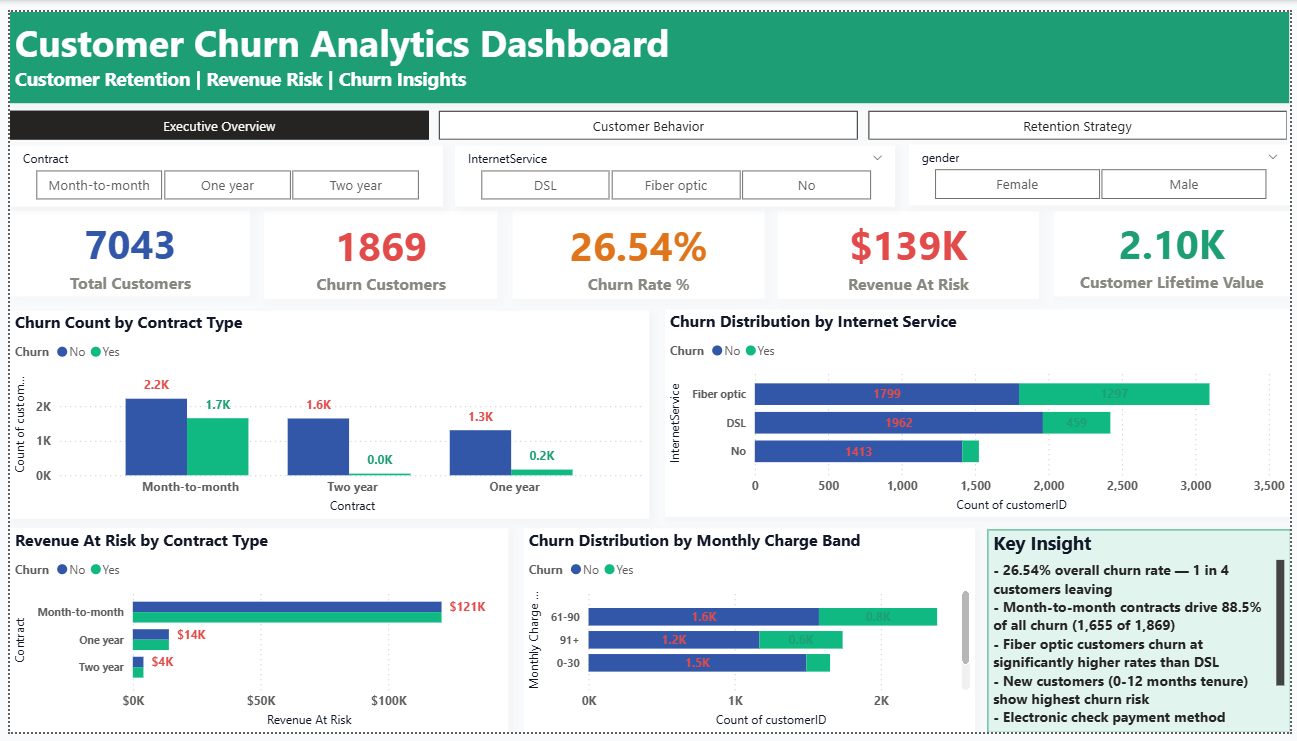

The dashboard page shown, as its layout file describes it:
{"tool":"powerbi","page":{"name":"Executive Overview","canvas":[1280,720],"ordinal":0},"visuals":[{"type":"card","fields":{"Values":["churn_raw xlsx.Total Customers"]},"box":[0,198.3,240.1,85.8],"z":0},{"type":"card","fields":{"Values":["churn_raw xlsx.Churn Customers"]},"box":[254.2,198.3,233.9,88.3],"z":1000},{"type":"card","fields":{"Values":["churn_raw xlsx.Churn Rate %"]},"box":[502.2,198.3,251.7,88.3],"z":2000},{"type":"card","fields":{"Values":["churn_raw xlsx.Revenue At Risk"]},"box":[768,198.3,261.2,88.3],"z":3000},{"type":"card","fields":{"Values":["churn_raw xlsx.CLV"]},"box":[1043.3,198.3,236.7,85.8],"z":4000},{"type":"clusteredColumnChart","title":"Churn Count by Contract Type","fields":{"Category":["churn_raw xlsx.Contract"],"Series":["churn_raw xlsx.Churn"],"Y":["CountNonNull(churn_raw xlsx.customerID)"]},"box":[0,298.6,639.4,207.7],"z":5000},{"type":"barChart","title":"Churn Distribution by Internet Service","fields":{"Category":["churn_raw xlsx.InternetService"],"Series":["churn_raw xlsx.Churn"],"Y":["CountNonNull(churn_raw xlsx.customerID)"]},"box":[655,297.5,625,207.5],"z":6000},{"type":"clusteredBarChart","title":"Revenue At Risk by Contract Type","fields":{"Category":["churn_raw xlsx.Contract"],"Series":["churn_raw xlsx.Churn"],"Y":["churn_raw xlsx.Revenue At Risk"]},"box":[0,516.2,498.8,203.8],"z":7000},{"type":"textbox","box":[0,0,1278.8,91.2],"z":8000},{"type":"barChart","title":"Churn Distribution by Monthly Charge Band","fields":{"Category":["churn_raw xlsx.Monthly Charge Band"],"Series":["churn_raw xlsx.Churn"],"Y":["CountNonNull(churn_raw xlsx.customerID)"]},"box":[513.8,516.2,451.2,203.8],"z":9000},{"type":"slicer","title":"High Risk Segment Table","fields":{"Values":["churn_raw xlsx.Contract"]},"box":[0,133.5,432.9,60.6],"z":10000},{"type":"slicer","title":"High Risk Segment Table","fields":{"Values":["churn_raw xlsx.gender"]},"box":[898.2,132.9,381.8,61.2],"z":11000},{"type":"slicer","title":"High Risk Segment Table","fields":{"Values":["churn_raw xlsx.InternetService"]},"box":[445.3,133.5,440,60.6],"z":12000},{"type":"pageNavigator","box":[0,98.2,1279.1,30],"z":13000},{"type":"textbox","title":"Key Insight","box":[977,517,303,203],"z":14000}]}

Visuals, with their boxes in screenshot pixels (x1, y1, x2, y2), scaled from the page's 1280x720 canvas onto the 1297x741 screenshot:
card - churn_raw xlsx.Total Customers: [left=0, top=204, right=243, bottom=292]
card - churn_raw xlsx.Churn Customers: [left=258, top=204, right=495, bottom=295]
card - churn_raw xlsx.Churn Rate %: [left=509, top=204, right=764, bottom=295]
card - churn_raw xlsx.Revenue At Risk: [left=778, top=204, right=1043, bottom=295]
card - churn_raw xlsx.CLV: [left=1057, top=204, right=1296, bottom=292]
"Churn Count by Contract Type" clusteredColumnChart: [left=0, top=307, right=648, bottom=521]
"Churn Distribution by Internet Service" barChart: [left=664, top=306, right=1296, bottom=520]
"Revenue At Risk by Contract Type" clusteredBarChart: [left=0, top=531, right=505, bottom=740]
textbox: [left=0, top=0, right=1296, bottom=94]
"Churn Distribution by Monthly Charge Band" barChart: [left=521, top=531, right=978, bottom=740]
"High Risk Segment Table" slicer: [left=0, top=137, right=439, bottom=200]
"High Risk Segment Table" slicer: [left=910, top=137, right=1296, bottom=200]
"High Risk Segment Table" slicer: [left=451, top=137, right=897, bottom=200]
pageNavigator: [left=0, top=101, right=1296, bottom=132]
"Key Insight" textbox: [left=990, top=532, right=1296, bottom=740]
